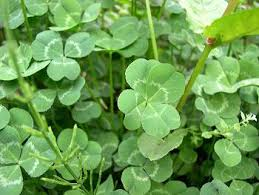4-clover: (117, 57, 185, 138)
